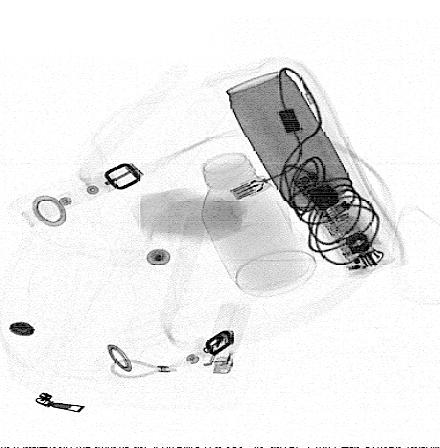Lighter: (199, 302, 252, 374)
